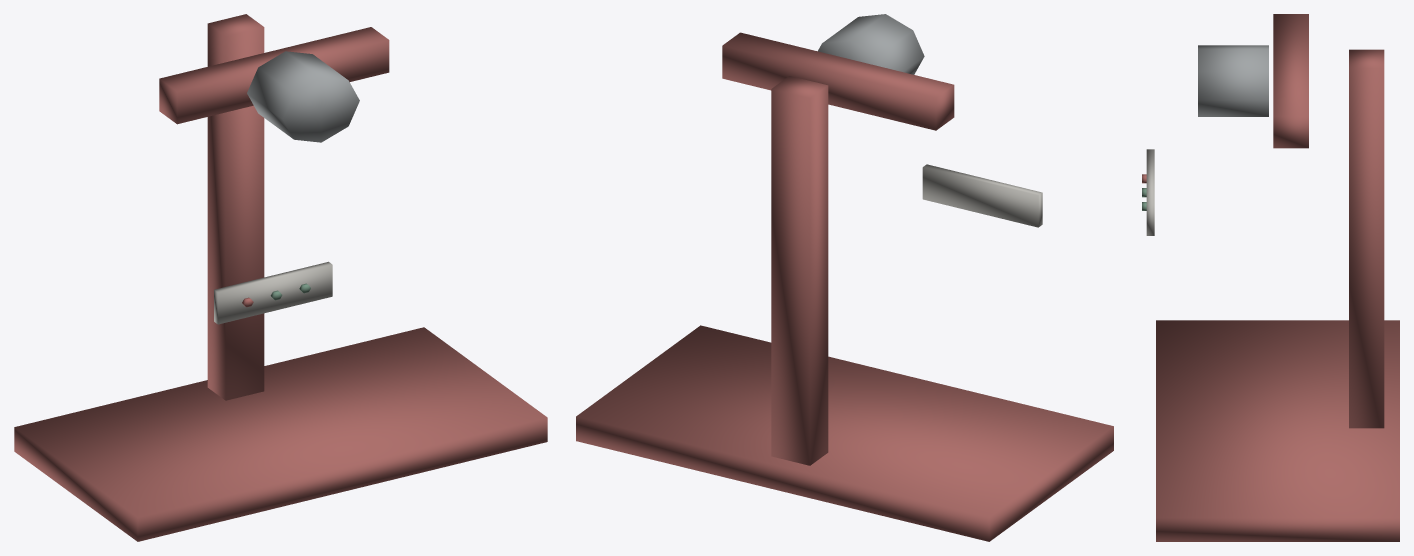
The model's file is engine_stand__wide.glb.
The picture shows the model from 3 angles, left to right: view 1: azimuth 30°, elevation 25°; view 2: azimuth 150°, elevation 25°; view 3: azimuth 270°, elevation 25°; orthographic projection. The views are drawn at different scales.
Parts seen in each view (by area): view 1: world; view 2: world; view 3: world.
Boxes of the visible parts, x1=… form: world: x1=14, y1=14, x2=547, y2=541; world: x1=576, y1=14, x2=1113, y2=541; world: x1=1142, y1=14, x2=1399, y2=541.
Bounding box in the file's own units: 1.05 × 0.98 × 0.581.
